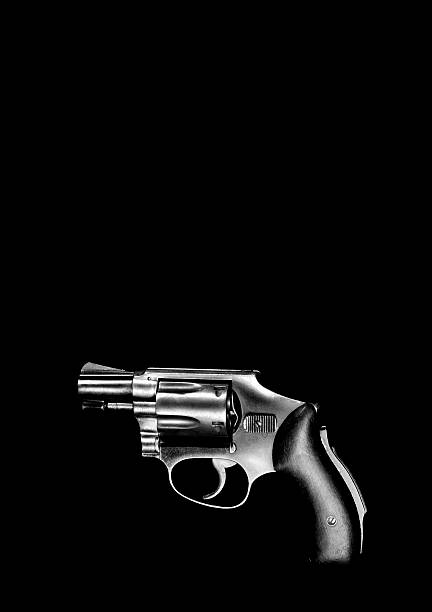pistol: (74, 352, 383, 573)
